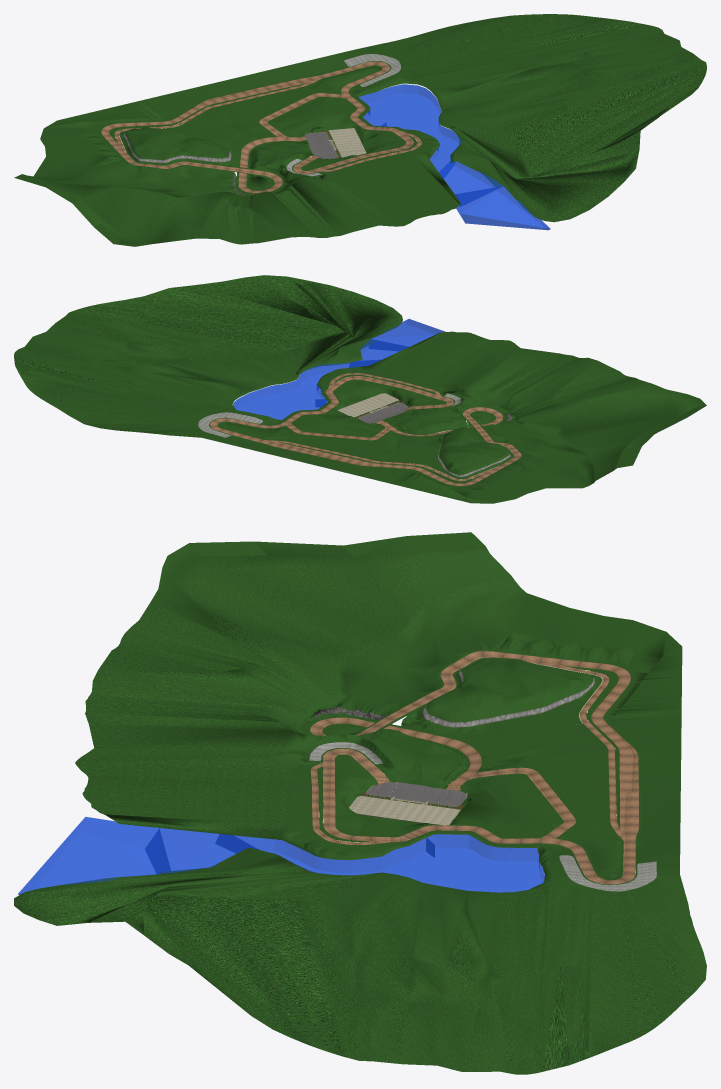
Rendered from track.glb.
3 views of the same model, one above another, from view 1: azimuth 30°, elevation 25°; view 2: azimuth 150°, elevation 25°; view 3: azimuth 270°, elevation 25° (orthographic). The views are drawn at different scales.
Visible parts, largest first — view 1: piedraspared2, ParkingLot_Pave3_0, ParkingLot_lambert1_0; view 2: piedraspared2, ParkingLot_Pave3_0, ParkingLot_lambert1_0; view 3: piedraspared2, ParkingLot_Pave3_0, ParkingLot_lambert1_0.
Part boxes in pixels (box(x1,y1,x2,y2)): piedraspared2: box(14, 14, 706, 246); ParkingLot_Pave3_0: box(328, 128, 366, 157); ParkingLot_lambert1_0: box(304, 130, 341, 159); piedraspared2: box(14, 275, 706, 503); ParkingLot_Pave3_0: box(337, 393, 398, 417); ParkingLot_lambert1_0: box(338, 401, 408, 423); piedraspared2: box(14, 532, 706, 1074); ParkingLot_Pave3_0: box(349, 795, 460, 825); ParkingLot_lambert1_0: box(357, 782, 467, 823).
Size of the model in its own units: 1372 by 93.14 by 796.
Materials: 10 (9 with a texture image).
